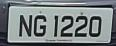0: (89, 14, 104, 38)
1: (51, 14, 61, 38)
2: (60, 14, 75, 38), (74, 14, 89, 38)
G: (34, 13, 46, 40)
N: (19, 14, 33, 39)
